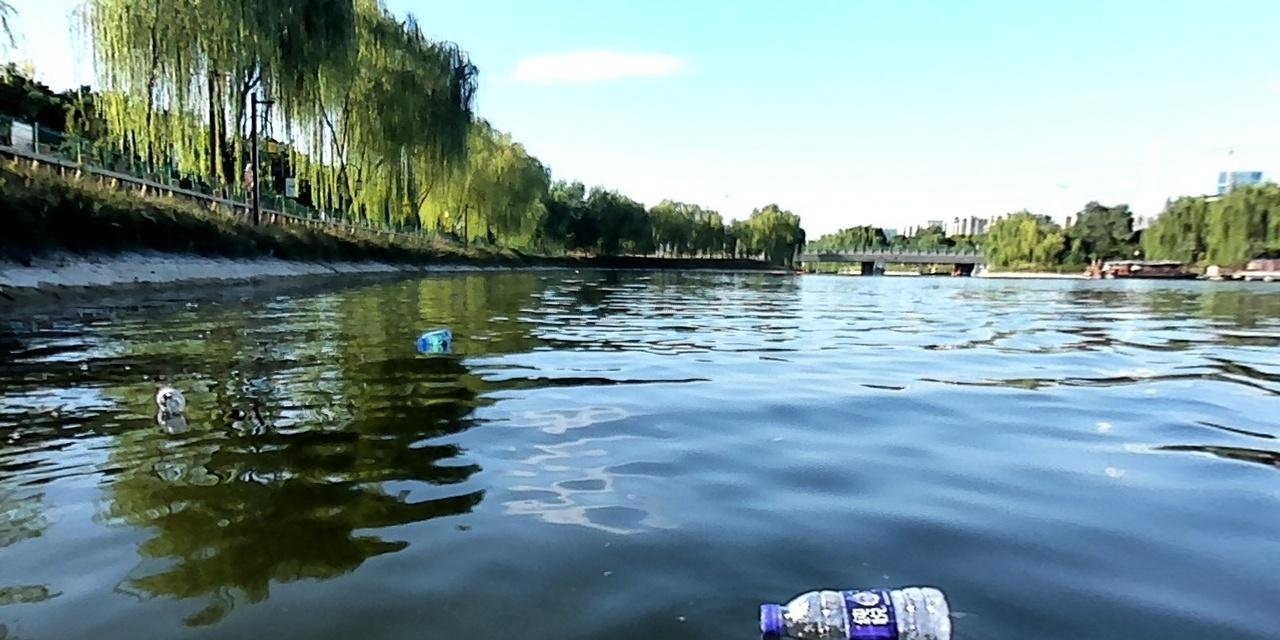bottle: (750, 581, 950, 639), (151, 377, 188, 414), (413, 324, 455, 350)
